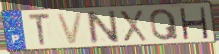H: (178, 7, 210, 40)
N: (84, 9, 121, 46)
Q: (148, 8, 181, 42)
T: (27, 12, 53, 48)
V: (54, 11, 86, 47)
X: (117, 9, 149, 43)
